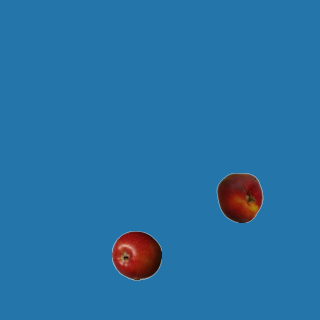Apple Braeburn: (111, 230, 161, 280)
Nectarine Flat: (214, 172, 264, 222)
